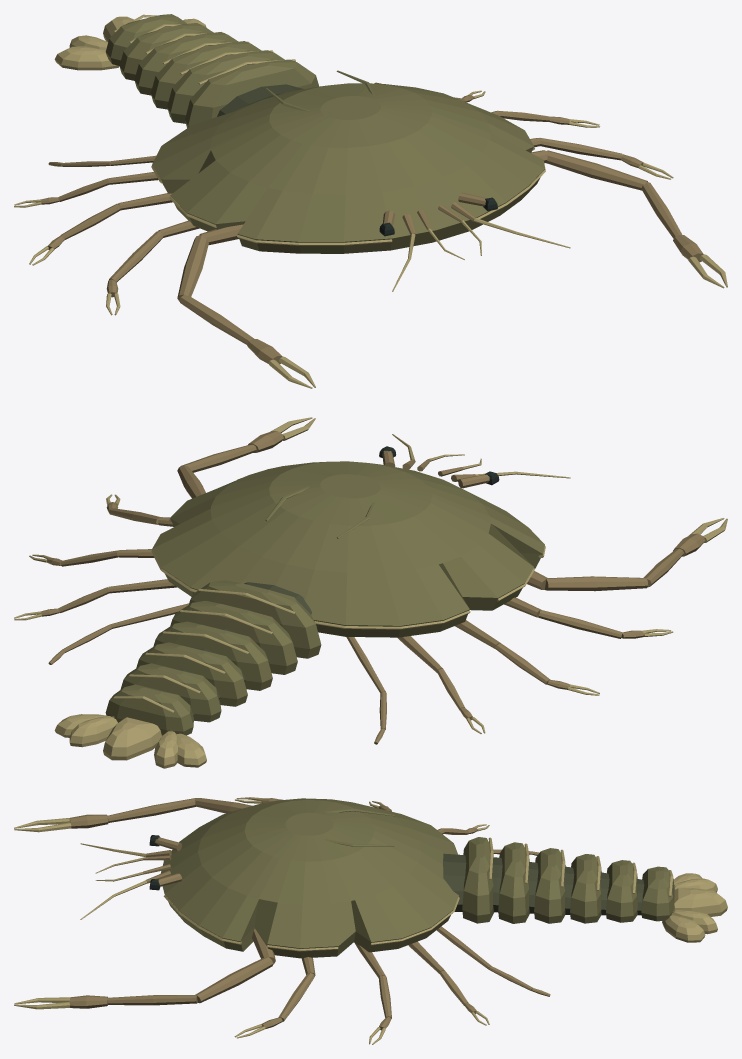
3 renders of one model, top to bottom at view 1: azimuth 30°, elevation 25°; view 2: azimuth 150°, elevation 25°; view 3: azimuth 270°, elevation 25°, orthographic. The views are drawn at different scales.
Parts seen in each view (by area): view 1: Eryon_shell, Eryon_limb, Eryon_margin, Eryon_ventral; view 2: Eryon_shell, Eryon_limb, Eryon_margin, Eryon_ventral; view 3: Eryon_shell, Eryon_limb, Eryon_margin, Eryon_ventral.
Boxes of the visible parts, x1=… form: Eryon_shell: x1=105, y1=14, x2=544, y2=253; Eryon_limb: x1=41, y1=82, x2=703, y2=363; Eryon_margin: x1=14, y1=14, x2=727, y2=388; Eryon_ventral: x1=217, y1=84, x2=303, y2=116; Eryon_shell: x1=105, y1=461, x2=544, y2=735; Eryon_limb: x1=41, y1=431, x2=705, y2=744; Eryon_margin: x1=14, y1=417, x2=727, y2=768; Eryon_ventral: x1=174, y1=582, x2=316, y2=715; Eryon_shell: x1=160, y1=798, x2=674, y2=958; Eryon_limb: x1=69, y1=798, x2=550, y2=1030; Eryon_margin: x1=14, y1=797, x2=727, y2=1044; Eryon_ventral: x1=443, y1=853, x2=644, y2=915.
Bounding box in the file's own units: 0.0963 × 0.019 × 0.1194.
